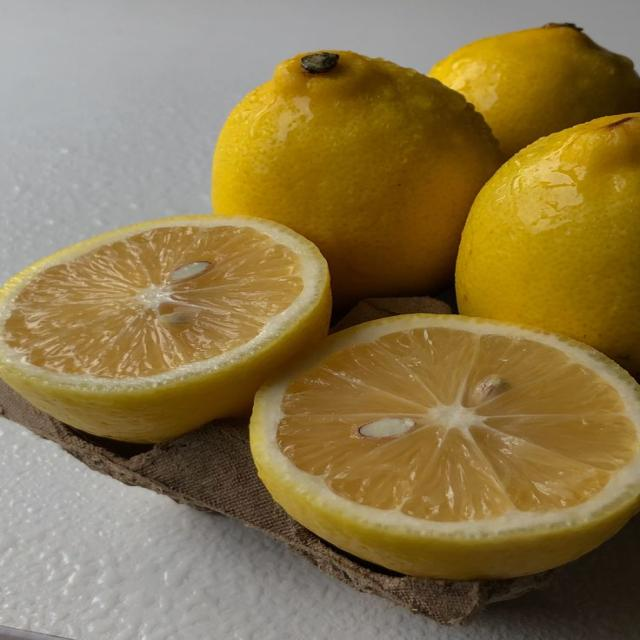lemon: (251, 315, 639, 579), (0, 216, 330, 442), (213, 51, 500, 307), (457, 114, 639, 375), (430, 24, 639, 155)
